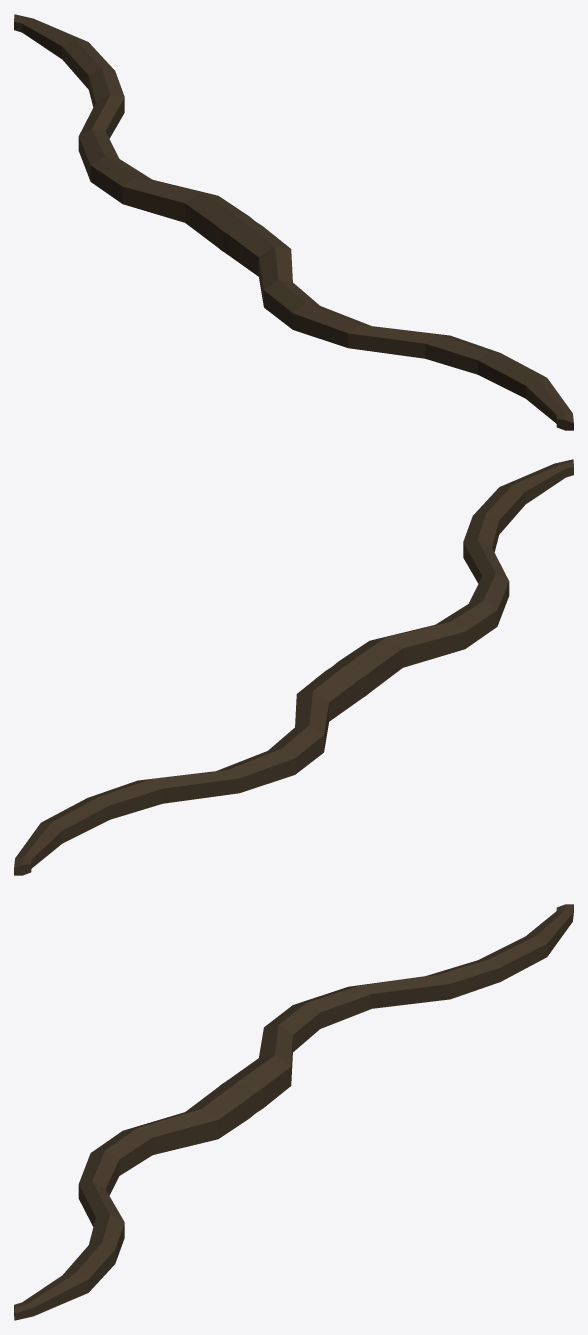
File: Bow.fbx
The picture shows the model from 3 angles, top to bottom: view 1: azimuth 30°, elevation 25°; view 2: azimuth 150°, elevation 25°; view 3: azimuth 330°, elevation 25°; orthographic projection.
Visible parts, largest first — view 1: Bow; view 2: Bow; view 3: Bow.
Boxes of the visible parts, <box> form: Bow: <box>14,14,573,430</box>; Bow: <box>14,459,573,875</box>; Bow: <box>14,904,573,1320</box>.
Bounding box in the file's own units: 86.73 × 23.51 × 666.
